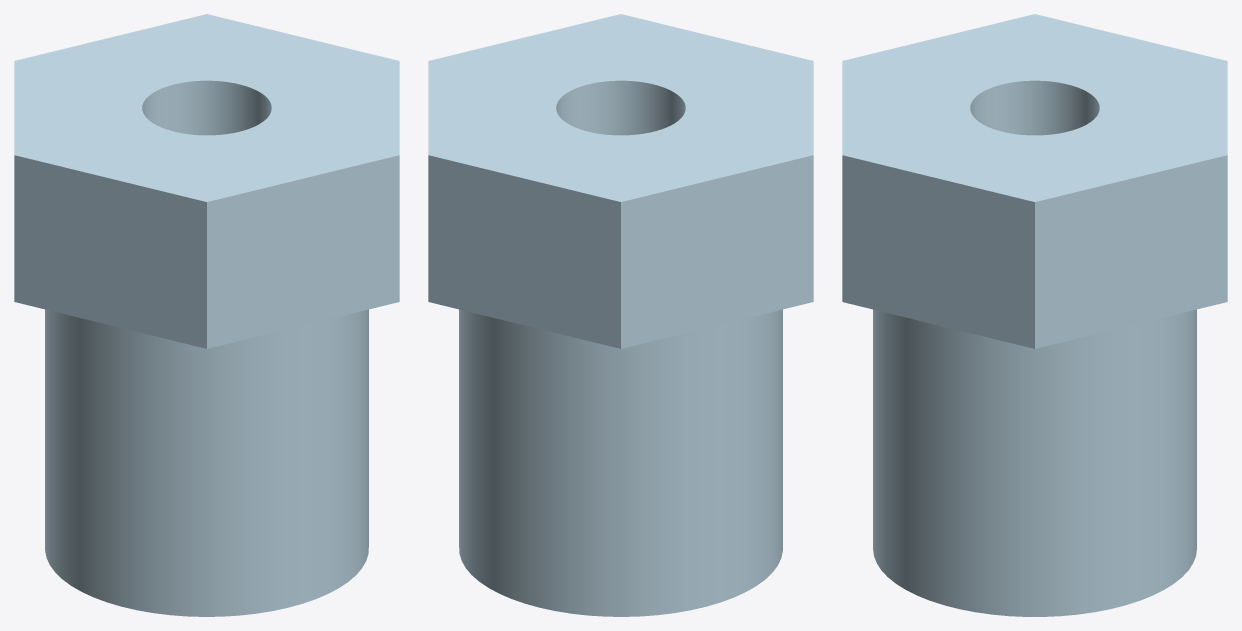
The model's file is motor_hex_coupling.gltf.
The picture shows the model from 3 angles, left to right: view 1: azimuth 30°, elevation 25°; view 2: azimuth 150°, elevation 25°; view 3: azimuth 270°, elevation 25°; orthographic projection.
Parts seen in each view (by area): view 1: mesh3027, mesh3033, mesh3038, mesh3039, mesh3031; view 2: mesh3027, mesh3033, mesh3034, mesh3035, mesh3031; view 3: mesh3027, mesh3033, mesh3036, mesh3037, mesh3031.
Part boxes in pixels (<box>): mesh3027: <box>45,309,368,616</box>; mesh3033: <box>14,14,399,201</box>; mesh3038: <box>207,155,399,348</box>; mesh3039: <box>14,155,206,348</box>; mesh3031: <box>142,80,271,135</box>; mesh3027: <box>459,309,782,616</box>; mesh3033: <box>428,14,813,201</box>; mesh3034: <box>621,155,813,348</box>; mesh3035: <box>428,155,620,348</box>; mesh3031: <box>556,80,685,135</box>; mesh3027: <box>873,309,1196,616</box>; mesh3033: <box>842,14,1227,201</box>; mesh3036: <box>1035,155,1227,348</box>; mesh3037: <box>842,155,1034,348</box>; mesh3031: <box>970,80,1099,135</box>.
Size of the model in its own units: 0.0137 by 0.015 by 0.0119.
